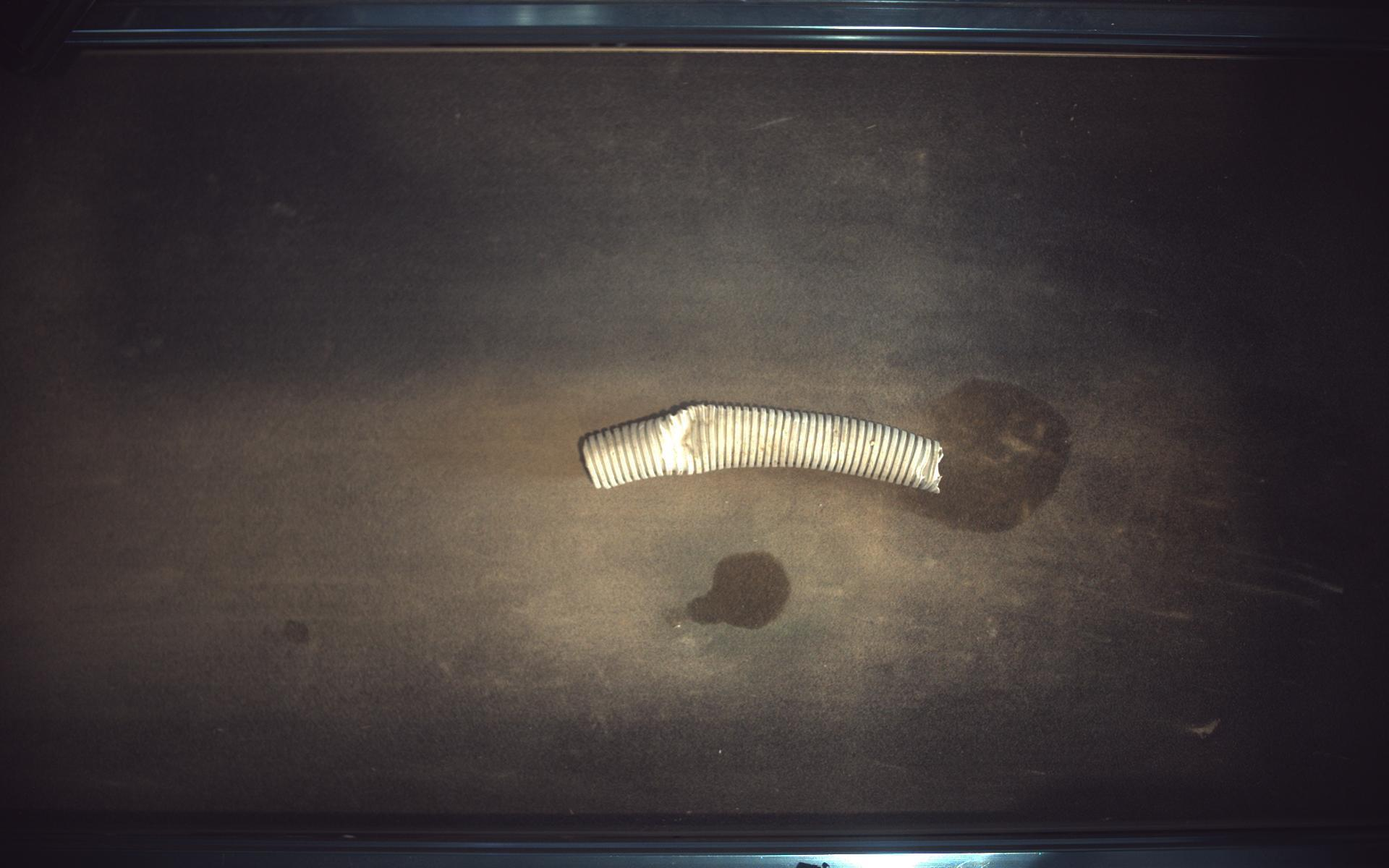pipes: (580, 402, 946, 493)
